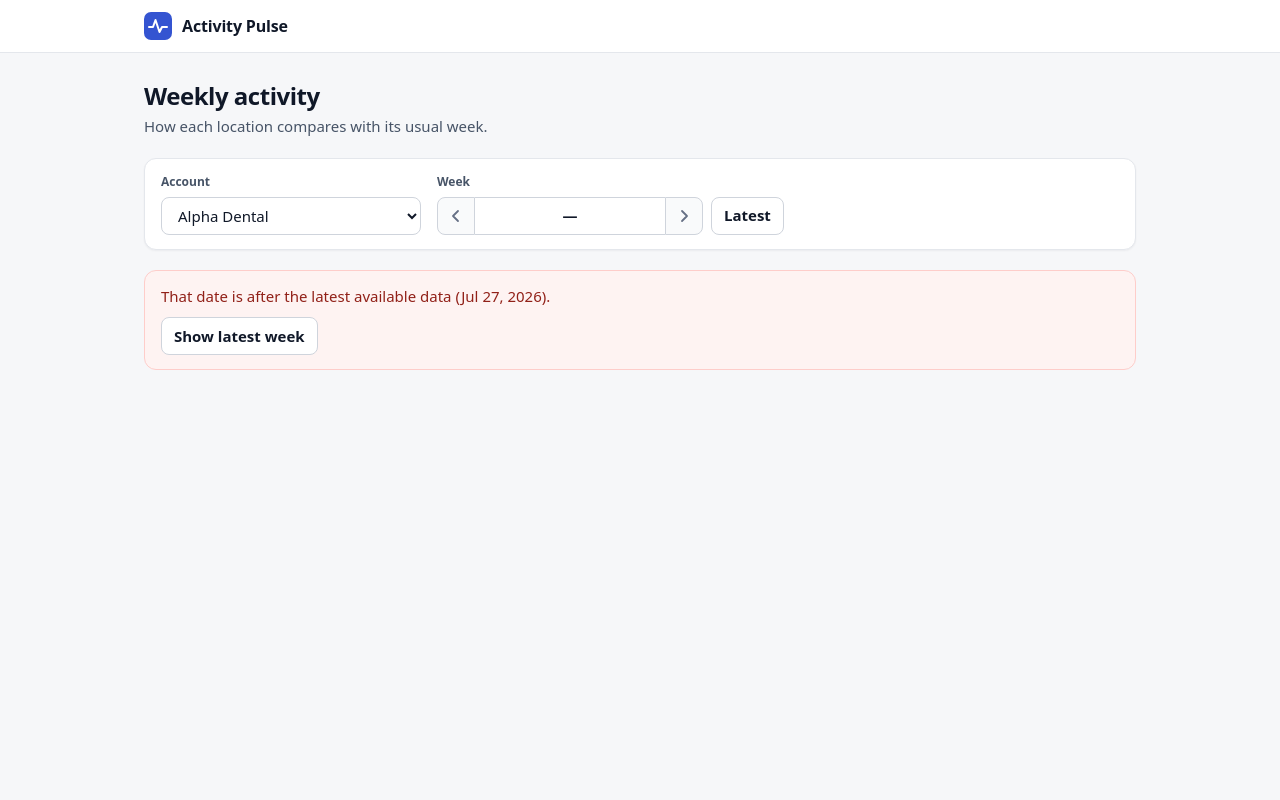
Test case: week navigation › offers the latest week when a bookmarked date is past the data
Expected: the message shows "That date is after the latest available data (Jul 27, 2026).", x1=161 y1=286 x2=550 y2=306
Expected: the message does not show "as_of", x1=144 y1=270 x2=1136 y2=370
What coordinates should you click on to do the following:
click the button "Show latest week"
I would click on:
 (239, 336)
Its box is x1=161 y1=317 x2=318 y2=355.
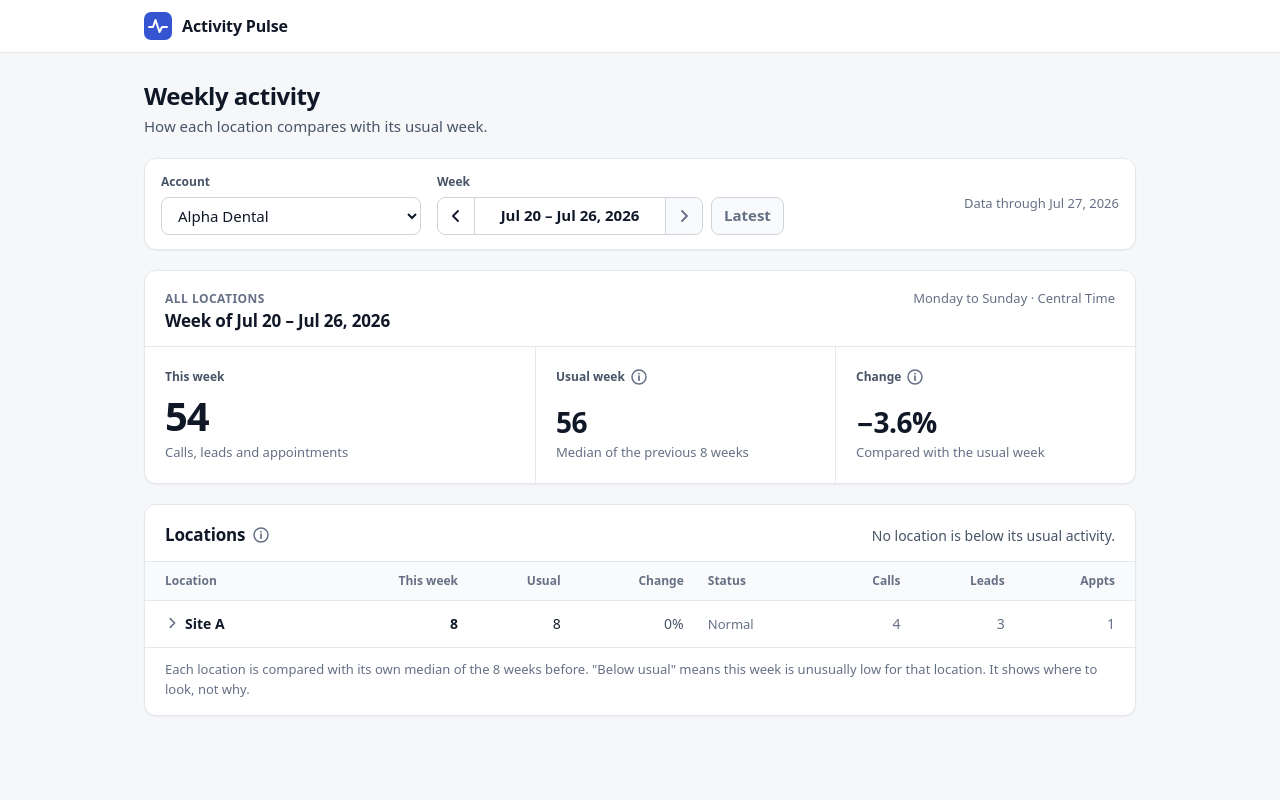
Expected: the heading "Week of Jul 20 – Jul 26, 2026" is shown, x1=165 y1=310 x2=390 y2=332
